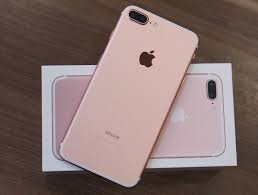iphone: (57, 4, 196, 192)
